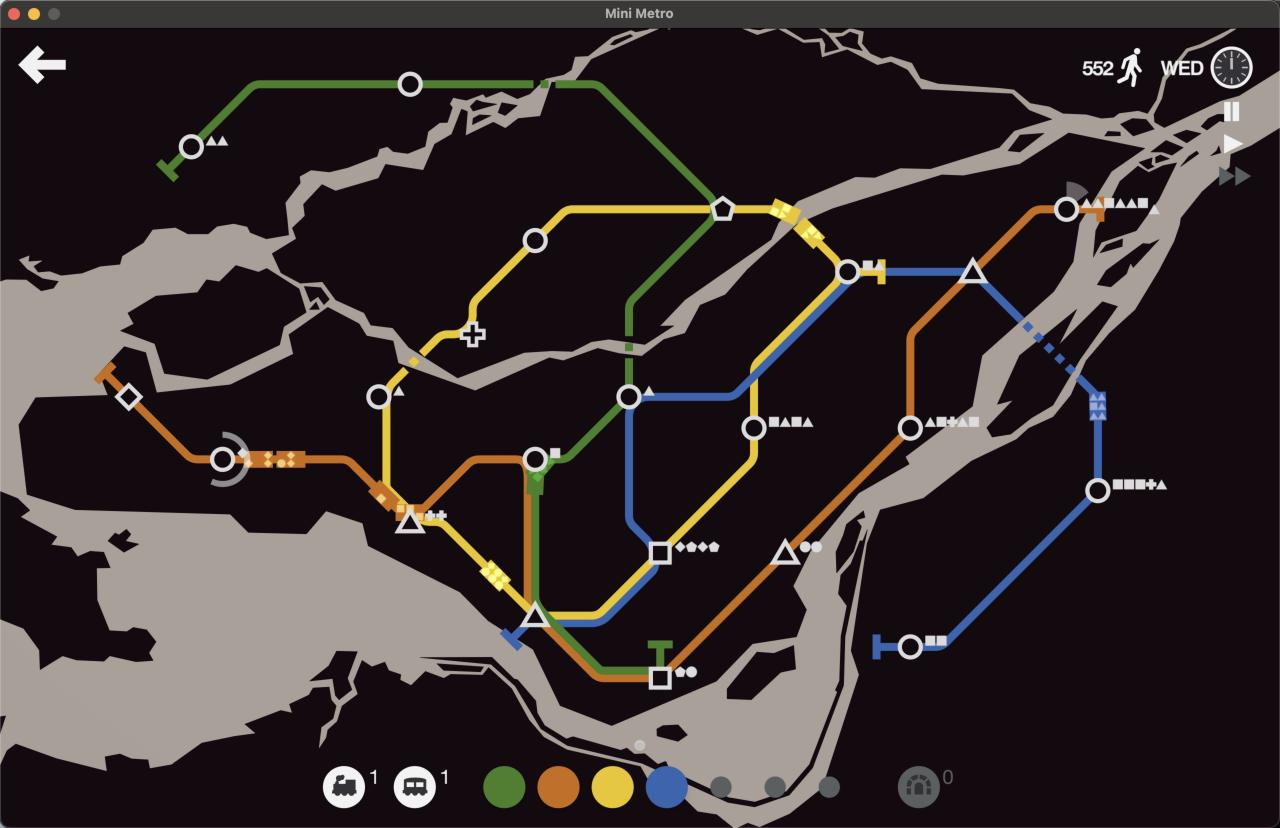CIRCLE: (208, 445, 236, 473), (897, 633, 924, 661), (178, 133, 205, 160), (365, 383, 392, 410), (522, 446, 549, 473), (1053, 196, 1080, 222), (740, 415, 767, 441), (1085, 477, 1111, 504), (897, 415, 923, 441), (397, 71, 423, 97), (522, 227, 548, 253), (616, 384, 643, 409), (836, 259, 860, 284)
CROSS: (459, 321, 487, 347)
GEM: (114, 382, 144, 412)
PENTAGON: (710, 196, 736, 221)
SQUARE: (648, 667, 672, 691), (648, 541, 672, 564)
TRIANGLE: (395, 504, 425, 535), (770, 537, 802, 566), (517, 602, 550, 630), (957, 255, 989, 283)
